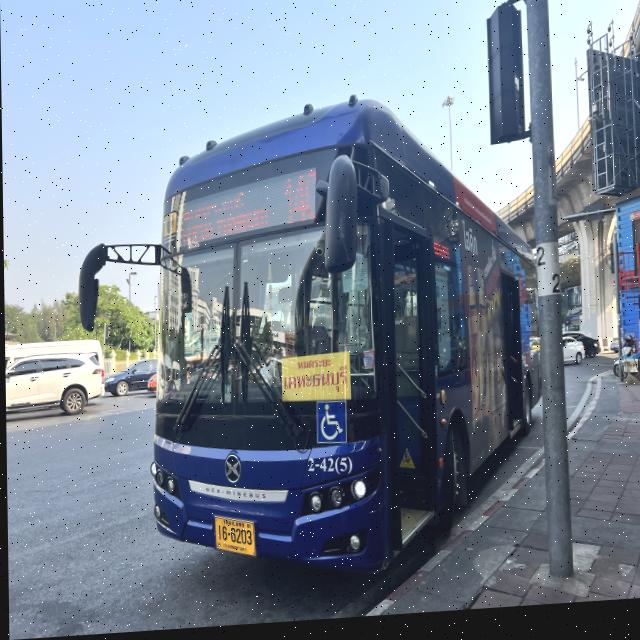Bus-Line-Number: (278, 167, 320, 239)
Destination-Sign-Normal: (175, 186, 268, 247)
Destination-Sign-Normal-Expressway: (280, 357, 350, 405)
TSB-Bus: (145, 94, 536, 595)
